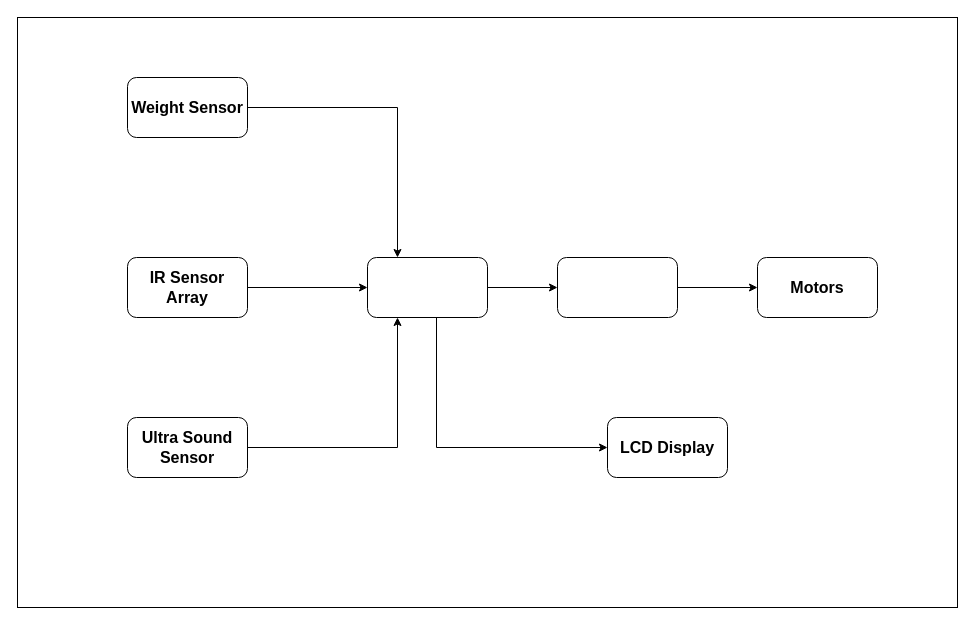
This 975x625 diagram has some shape labels left out. Each missing label, with the centre of its shape:
"Micro Controller" belongs at [427,287].
"Motor drivers" belongs at [617,287].
